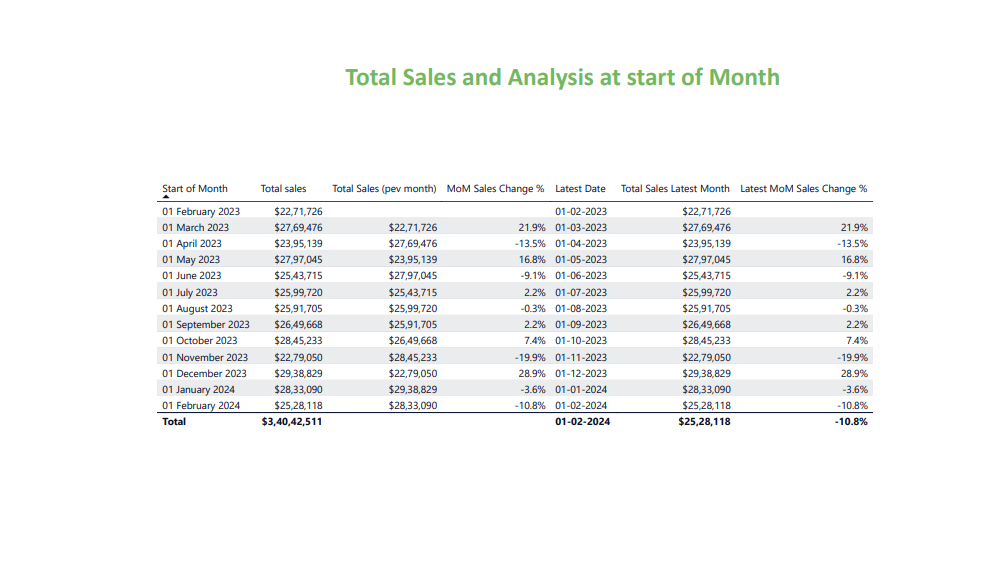

The page's visual inventory and layout, read from the dashboard file:
{"tool":"powerbi","page":{"name":"Total Sales at start of Month","canvas":[1280,720],"ordinal":1},"visuals":[{"type":"tableEx","fields":{"Values":["calendar.Start of Month","_measures.Total sales","_measures.Total Sales (pev month)","_measures.MoM Sales Change %","_measures.Latest Date","_measures.Total Sales Latest Month","_measures.Latest MoM Sales Change %"]},"box":[207.9,184.6,777.7,313],"z":0},{"type":"textbox","box":[347.3,61.1,583.3,79.5],"z":1}]}

Visuals, with their boxes on the page's 1280x720 design canvas (x1, y1, x2, y2). These are canvas units, not pixel positions in the 981x569 screenshot, which may show the page scaled, cropped or inside an application window:
tableEx - calendar.Start of Month x _measures.Total sales: left=208, top=185, right=986, bottom=498
textbox: left=347, top=61, right=931, bottom=141
